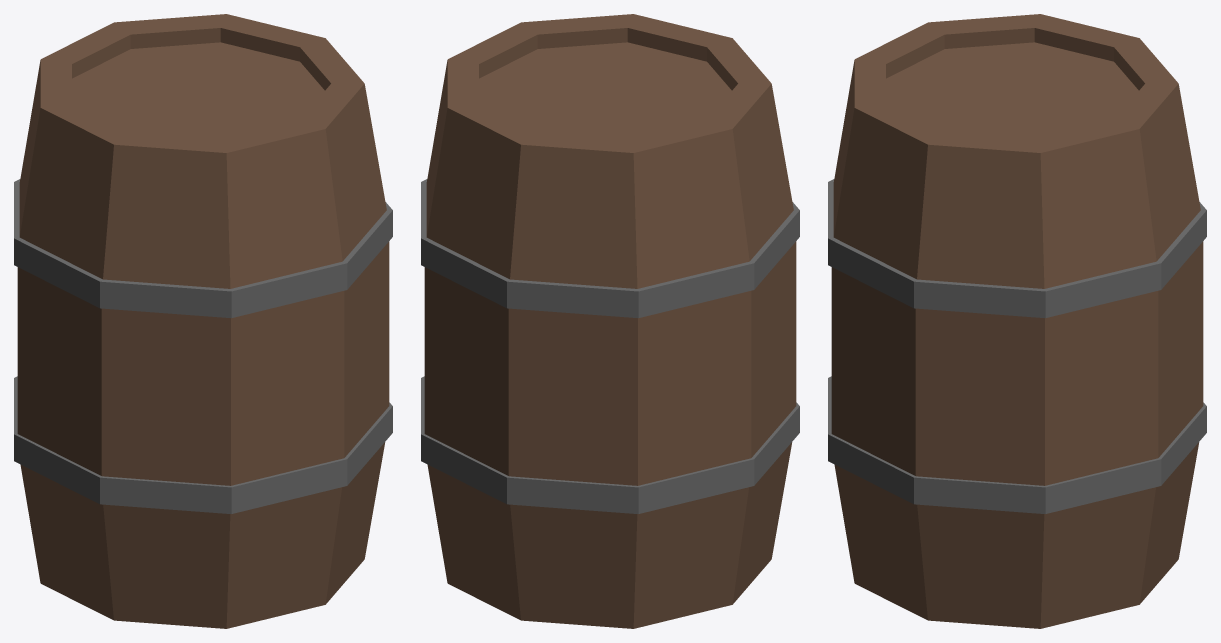
The model's file is SPW_Medieval_Barrel.glb.
3 renders of one model, left to right at view 1: azimuth 30°, elevation 25°; view 2: azimuth 150°, elevation 25°; view 3: azimuth 270°, elevation 25°, orthographic.
Parts seen in each view (by area): view 1: SPW_Medieval_Barrel; view 2: SPW_Medieval_Barrel; view 3: SPW_Medieval_Barrel.
Boxes of the visible parts, x1,y1,x2,y2 form: SPW_Medieval_Barrel: [14, 14, 392, 628]; SPW_Medieval_Barrel: [421, 14, 799, 628]; SPW_Medieval_Barrel: [828, 14, 1206, 628].
Size of the model in its own units: 0.5419 by 0.7398 by 0.5336.
1 material, 1 textured.
